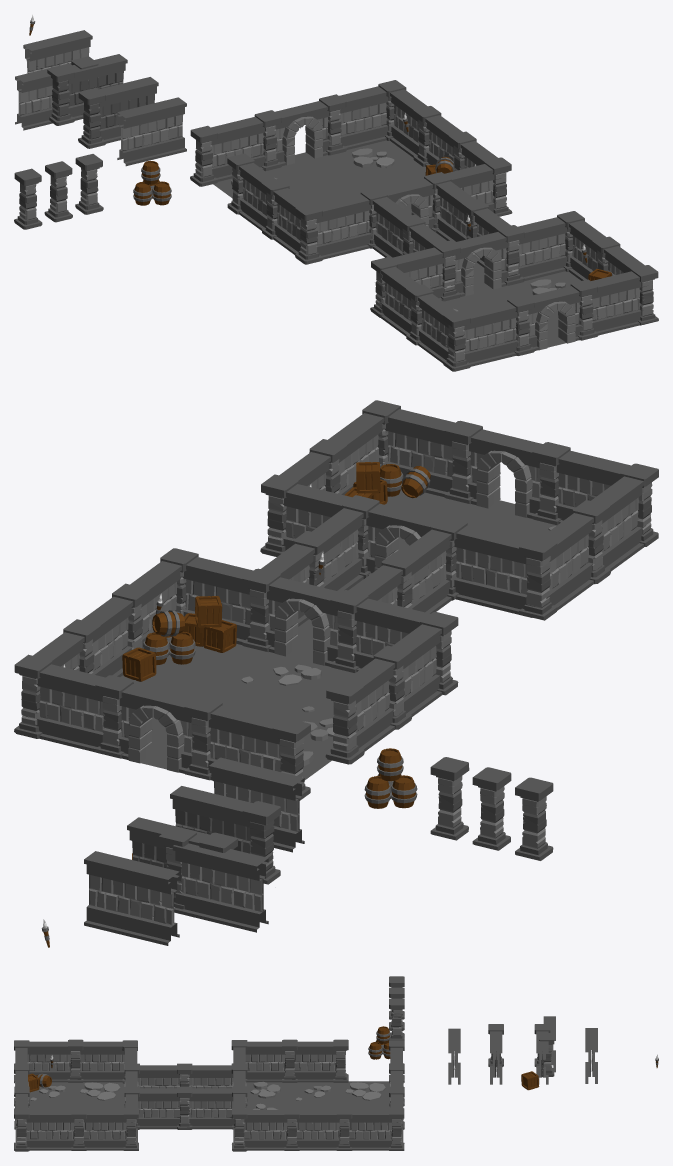
File: kutu.fbx
3 renders of one model, top to bottom at view 1: azimuth 30°, elevation 25°; view 2: azimuth 150°, elevation 25°; view 3: azimuth 270°, elevation 25°, orthographic. The views are drawn at different scales.
Visible parts, largest first — view 1: Plane.001, Plane.035, Plane.002, Plane.003, Plane.011, Plane.036, Plane.031, Plane.005, Plane.038, Plane.006, Plane.013, Plane.012 (+41 smaller); view 2: Plane.029, duvar, Plane.032, Plane.013, Plane.002, Plane.005, Plane.035, Plane.038, Plane.001, Plane.012, Plane.009, Plane.026 (+47 smaller); view 3: Plane.033, Plane.022, Plane.007, Plane.013, Plane.004, Plane.030, Plane.008, Plane.012, Plane.038, Plane.024, Plane.039, Plane.027 (+21 smaller).
Boxes of the visible parts, x1=… form: Plane.001: x1=117, y1=97, x2=186, y2=166; Plane.035: x1=591, y1=265, x2=658, y2=335; Plane.002: x1=78, y1=77, x2=158, y2=148; Plane.003: x1=47, y1=54, x2=127, y2=125; Plane.011: x1=316, y1=194, x2=371, y2=259; Plane.036: x1=463, y1=301, x2=518, y2=366; Plane.031: x1=517, y1=217, x2=567, y2=281; Plane.005: x1=339, y1=86, x2=388, y2=149; Plane.038: x1=406, y1=284, x2=456, y2=363; Plane.006: x1=211, y1=117, x2=265, y2=181; Plane.013: x1=227, y1=153, x2=275, y2=230; Plane.012: x1=261, y1=178, x2=309, y2=254; Plane.029: x1=84, y1=851, x2=179, y2=945; duvar: x1=172, y1=843, x2=268, y2=932; Plane.032: x1=453, y1=525, x2=534, y2=617; Plane.013: x1=325, y1=658, x2=395, y2=764; Plane.002: x1=170, y1=786, x2=280, y2=884; Plane.005: x1=25, y1=664, x2=105, y2=752; Plane.035: x1=362, y1=400, x2=454, y2=497; Plane.038: x1=572, y1=476, x2=645, y2=584; Plane.001: x1=208, y1=757, x2=304, y2=852; Plane.012: x1=373, y1=624, x2=442, y2=729; Plane.009: x1=160, y1=548, x2=253, y2=644; Plane.026: x1=400, y1=516, x2=467, y2=613; Plane.033: x1=26, y1=1108, x2=86, y2=1150; Plane.022: x1=177, y1=1086, x2=234, y2=1129; Plane.007: x1=296, y1=1108, x2=352, y2=1150; Plane.013: x1=294, y1=1039, x2=348, y2=1082; Plane.004: x1=349, y1=1108, x2=404, y2=1150; Plane.030: x1=83, y1=1108, x2=138, y2=1150; Plane.008: x1=244, y1=1108, x2=299, y2=1150; Plane.012: x1=245, y1=1039, x2=297, y2=1082; Plane.038: x1=27, y1=1039, x2=83, y2=1082; Plane.024: x1=124, y1=1086, x2=180, y2=1129; Plane.039: x1=80, y1=1041, x2=125, y2=1082; Plane.027: x1=177, y1=1063, x2=233, y2=1088.
Bounding box in the file's own units: 2498 × 339 × 4920.
